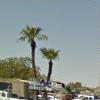Palm tree: (19, 16, 62, 76)
